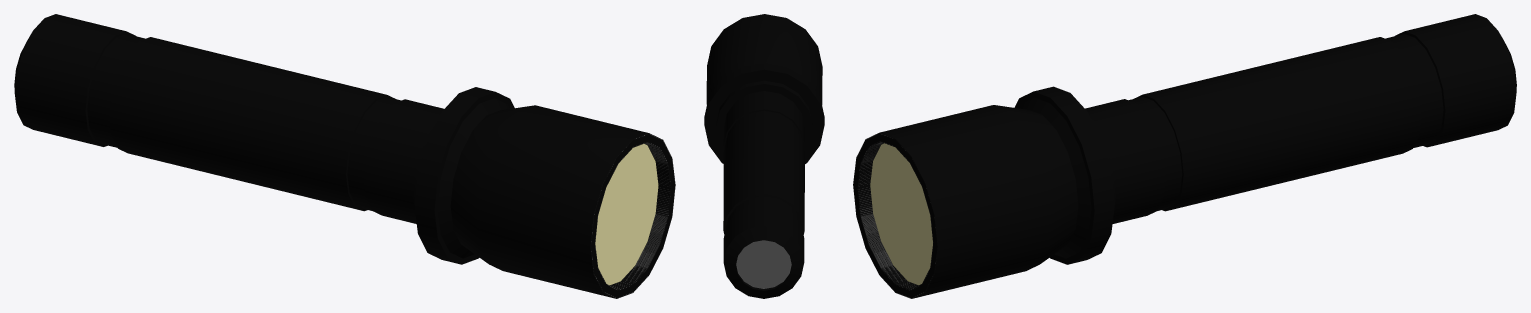
The model's file is Flashlight1.fbx.
3 views of the same model, side by side, from view 1: azimuth 30°, elevation 25°; view 2: azimuth 150°, elevation 25°; view 3: azimuth 270°, elevation 25° (orthographic). The views are drawn at different scales.
Parts seen in each view (by area): view 1: Cylinder; view 2: Cylinder; view 3: Cylinder.
Part boxes in pixels (x1,y1,x2,y2): Cylinder: (14, 14, 675, 298); Cylinder: (704, 14, 824, 298); Cylinder: (853, 14, 1516, 298).
Size of the model in its own units: 314 by 120 by 448.
1 material, 1 textured.
